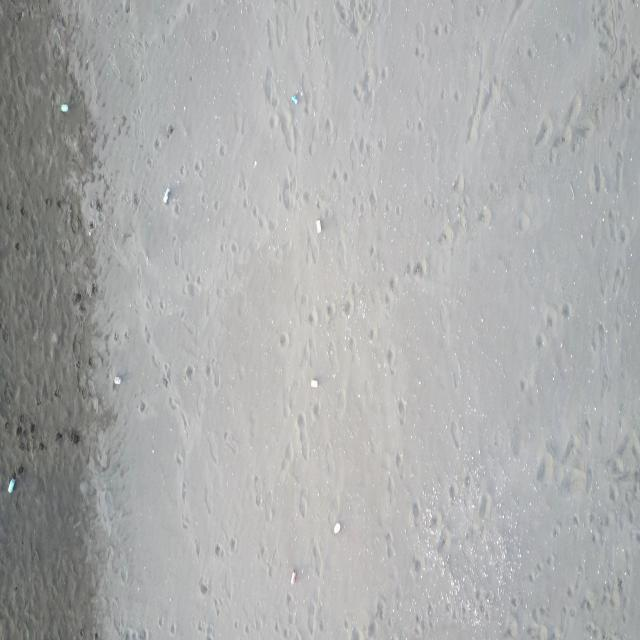Garbage: (8, 476, 15, 492), (289, 569, 296, 584), (163, 187, 168, 203), (310, 377, 318, 387), (112, 375, 120, 384), (332, 522, 339, 532), (60, 103, 68, 111), (291, 94, 298, 103), (316, 219, 319, 232)
